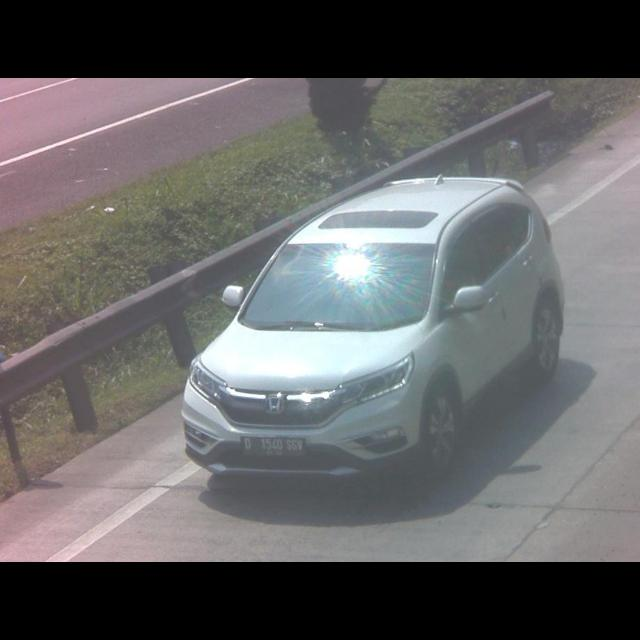plate: (238, 434, 308, 462)
